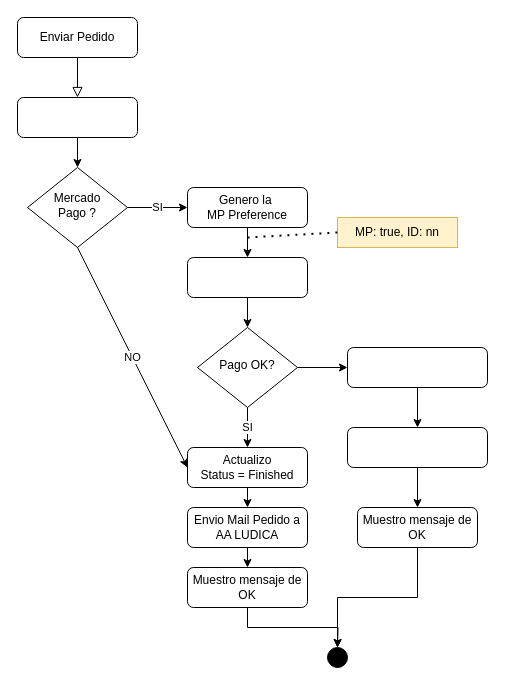
The diagram is 505 pixels wide and 685 high, and some of its shapes have lost their labels. The shapes that lost their labels are listed below. From the top down, each one's centre as x and y in pixels, then its label:
point (77, 117): Guardar en DB (Status = Pending)
point (247, 277): Abro Modal de Pago
point (417, 367): Actualizo Status = Fallo
point (417, 447): Envio mail de aviso al comprador bcc/AAludica
